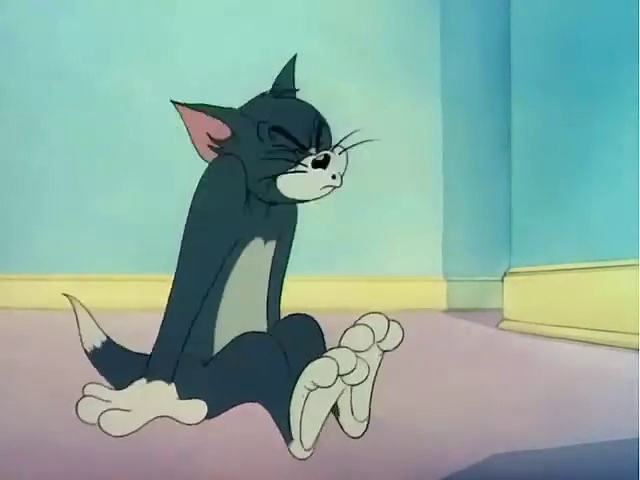tom: (53, 19, 406, 462)
